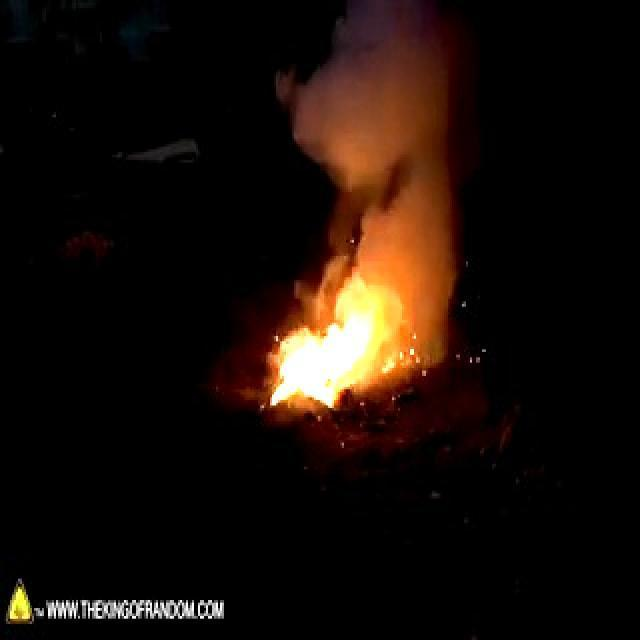Fire: (264, 272, 382, 409)
Smoke: (298, 6, 460, 310)
